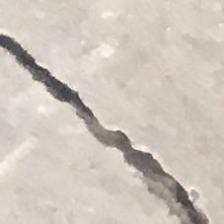Crack: (0, 24, 224, 224)
